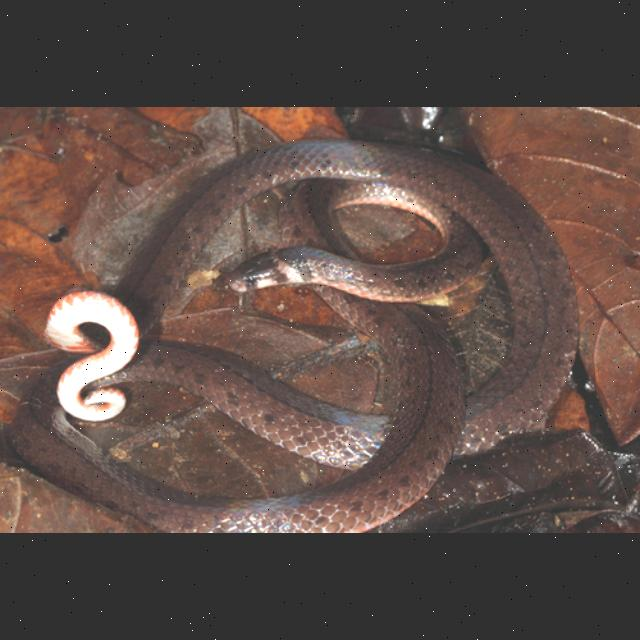snake: (17, 137, 581, 526), (38, 295, 142, 425)
